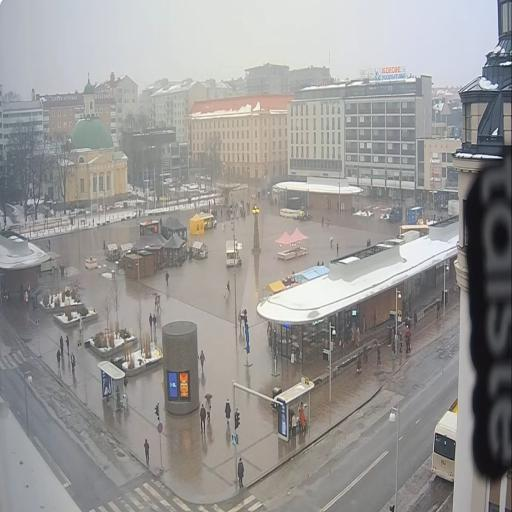Bus: (431, 398, 457, 481)
